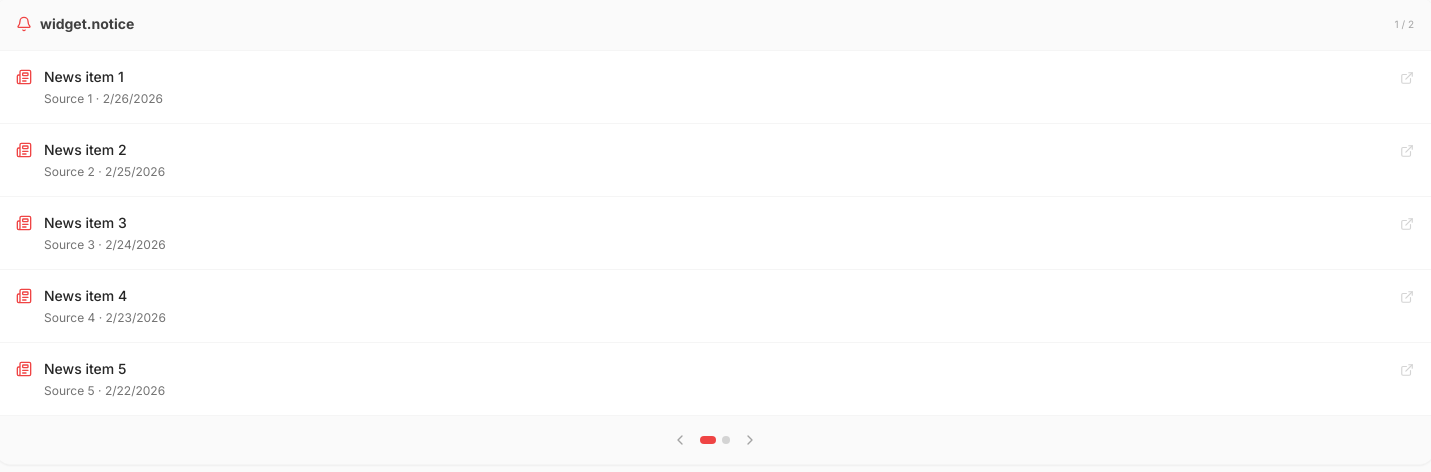
Test: NoticeWidget › navigates to previous page via button click
// Go to page 2 first
Click the button named "Next page".
click(750, 440)  # box [738,428,762,452]
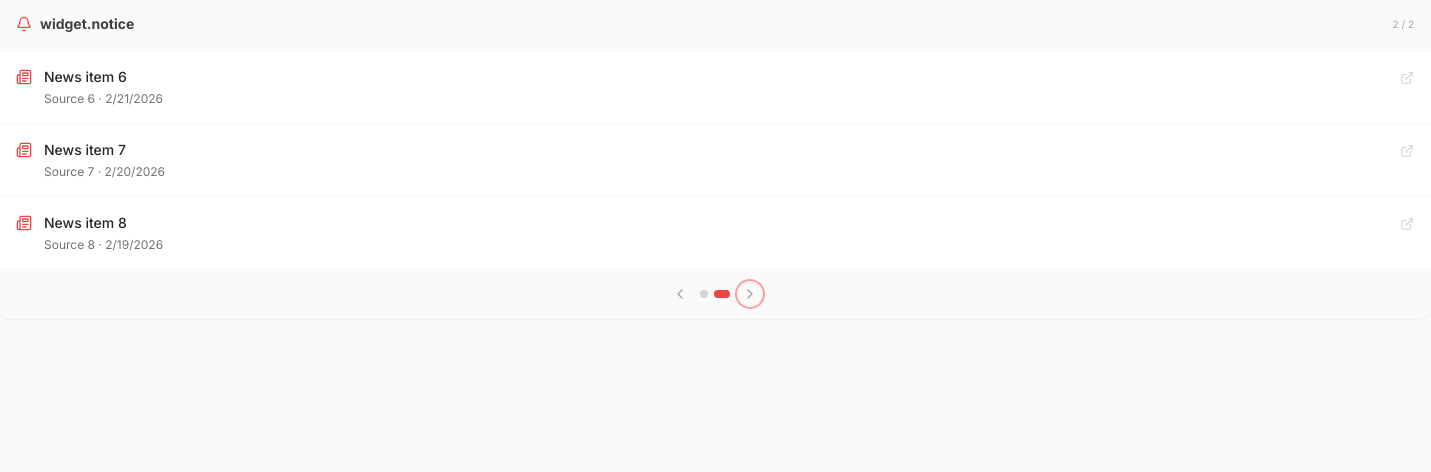
Now the text "2 / 2" is shown, box [1392,16,1414,32]
// Go back to page 1
Click the button named "Previous page".
click(680, 294)  # box [668,282,692,306]
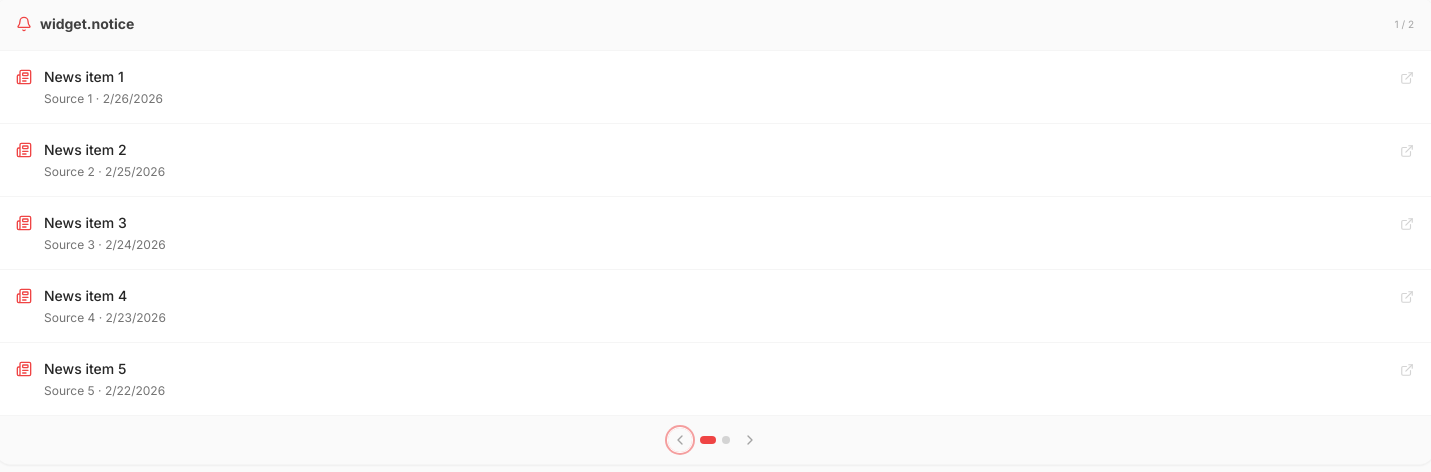
Now the text "News item 1" is shown, box [44,68,124,85]
Now the text "1 / 2" is shown, box [1395,16,1414,32]
